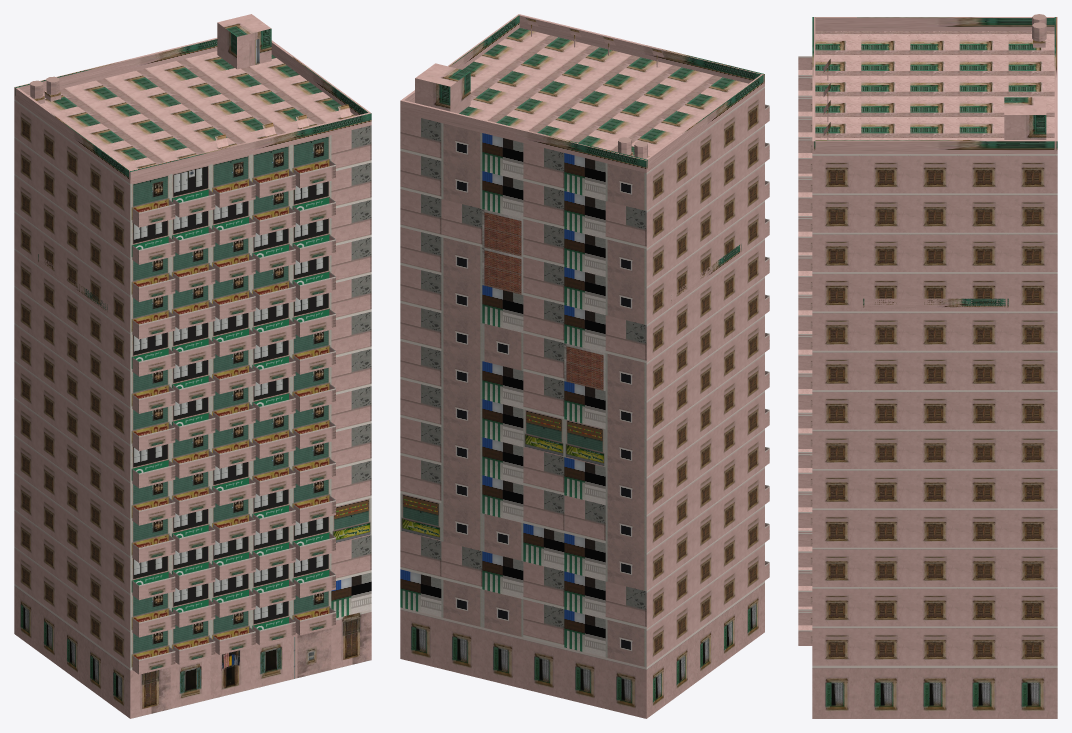
3 views of the same model, side by side, from view 1: azimuth 30°, elevation 25°; view 2: azimuth 150°, elevation 25°; view 3: azimuth 270°, elevation 25° (orthographic). The views are drawn at different scales.
Visible parts, largest first — view 1: Plaster_6x5_f13_v1, Plaster_6x3_f9_v0; view 2: Plaster_6x5_f13_v1, Plaster_6x3_f9_v0; view 3: Plaster_6x5_f13_v1, Plaster_6x3_f9_v0.
Part boxes in pixels (<box>): Plaster_6x5_f13_v1: <box>14,14,371,718</box>; Plaster_6x3_f9_v0: <box>37,253,107,701</box>; Plaster_6x5_f13_v1: <box>400,14,769,718</box>; Plaster_6x3_f9_v0: <box>670,244,741,701</box>; Plaster_6x5_f13_v1: <box>798,14,1057,718</box>; Plaster_6x3_f9_v0: <box>861,298,1008,718</box>.
Size of the model in its own units: 21 by 47.2 by 18.5.
1 material, 1 textured.
